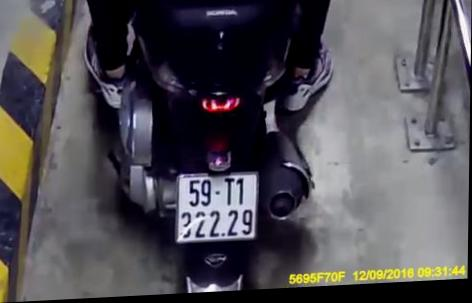License_Plate: (169, 165, 262, 251)
